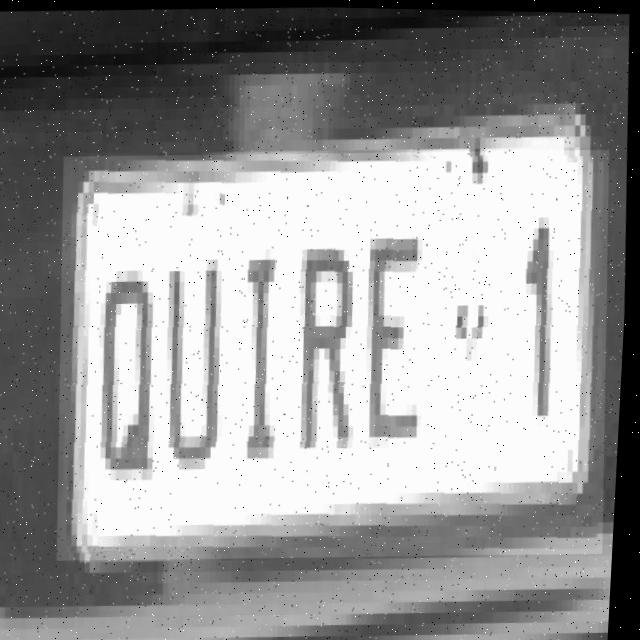LicensePlate: (48, 137, 624, 569)
